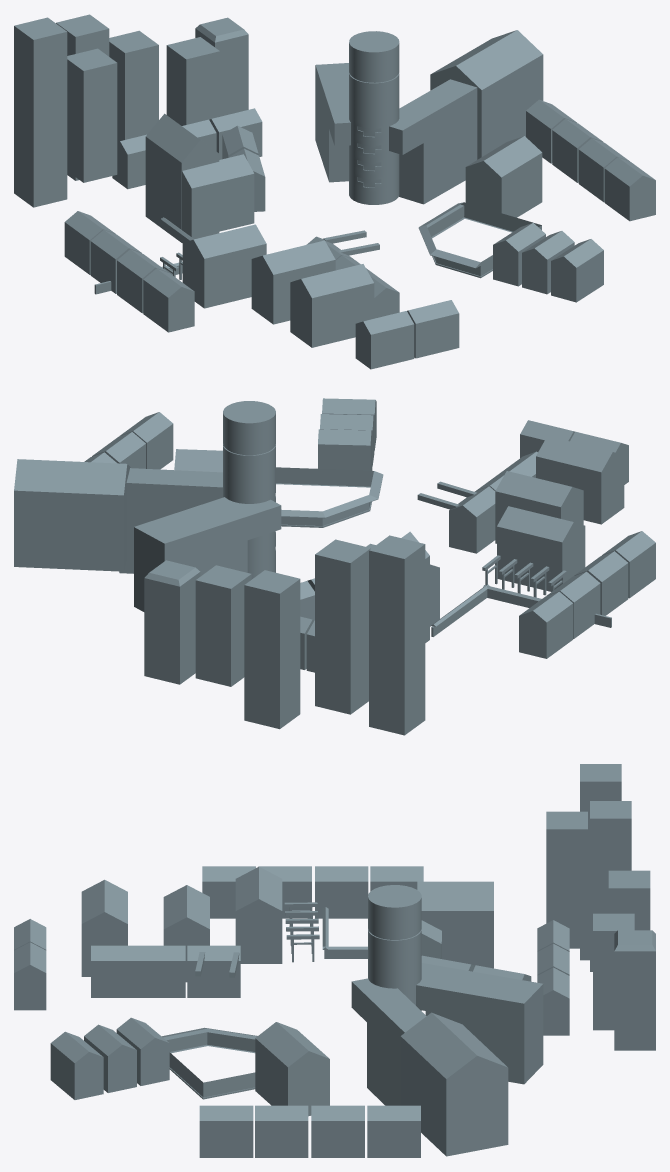
Rendered from Sample.fbx.
3 views of the same model, one above another, from view 1: azimuth 30°, elevation 25°; view 2: azimuth 150°, elevation 25°; view 3: azimuth 270°, elevation 25° (orthographic). The views are drawn at different scales.
Parts seen in each view (by area): view 1: pCube3, pCylinder1, polySurface52, polySurface53, pCube1, polySurface1, polySurface7, polySurface19, polySurface29, polySurface30, pCube6, pCube4 (+25 smaller); view 2: polySurface53, pCube3, pCube2, pCube6, polySurface9, pCylinder1, pCube5, pCube4, polySurface7, polySurface1, polySurface52, Kado (+20 smaller); view 3: polySurface53, polySurface9, pCylinder1, polySurface30, polySurface29, pCube1, pCube5, polySurface52, polySurface7, pCube2, Kado, polySurface1 (+26 smaller).
Boxes of the visible parts, x1,y1,x2,y2 form: pCube3: (14, 17, 67, 207); pCylinder1: (349, 31, 399, 204); polySurface52: (389, 79, 477, 204); polySurface53: (430, 30, 543, 159); pCube1: (67, 48, 117, 182); polySurface1: (290, 264, 374, 347); polySurface7: (182, 224, 266, 308); polySurface19: (182, 154, 254, 237); polySurface29: (465, 136, 542, 217); polySurface30: (145, 113, 219, 242); pCube6: (109, 30, 158, 141); pCube4: (166, 37, 219, 125); polySurface53: (14, 459, 130, 571); pCube3: (369, 535, 425, 735); pCube2: (315, 539, 370, 714); pCube6: (244, 570, 300, 729); polySurface9: (134, 497, 281, 611); pCylinder1: (223, 401, 275, 579); pCube5: (144, 560, 200, 684); pCube4: (195, 565, 251, 686); polySurface7: (497, 506, 585, 591); polySurface1: (536, 436, 624, 524); polySurface52: (119, 468, 222, 573); Kado: (276, 467, 383, 527); polySurface53: (400, 1012, 508, 1156); polySurface9: (416, 963, 543, 1084); pCylinder1: (368, 885, 421, 1010); polySurface30: (417, 881, 493, 968); polySurface29: (255, 1022, 329, 1116); pCube1: (546, 811, 587, 948); pCube5: (614, 930, 655, 1050); polySurface52: (351, 978, 426, 1105); polySurface7: (235, 867, 282, 963); pCube2: (590, 801, 631, 971); Kado: (162, 1027, 257, 1099); polySurface1: (81, 879, 127, 976).
Size of the model in its own units: 19863 by 6675 by 20531.
